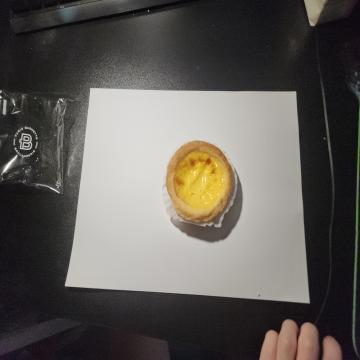EggTart: (166, 139, 233, 223)
